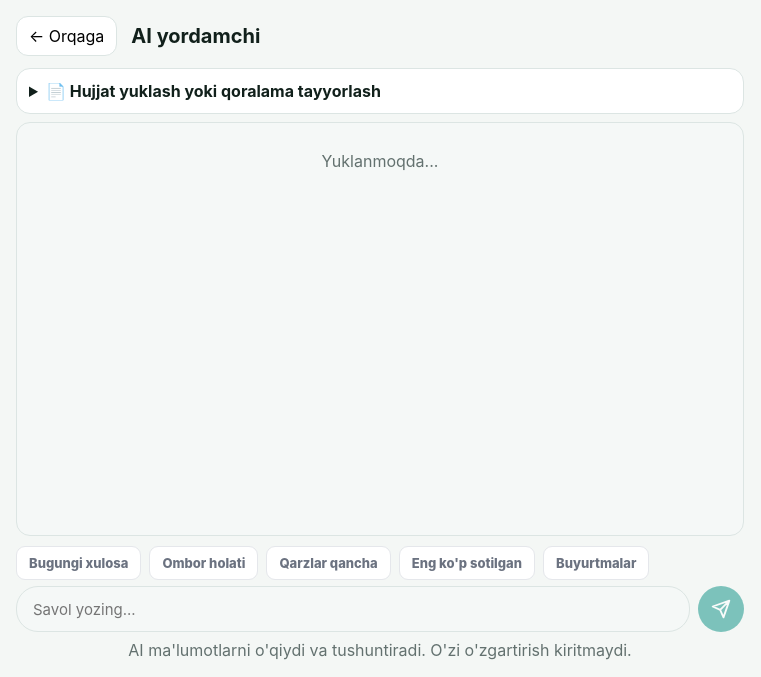
Scenario: AIAssistant › shows a failed request in the assistant message stream like v1656
Click the button "Qarzlar qancha". click: (329, 563)
box: [266,546,391,580]
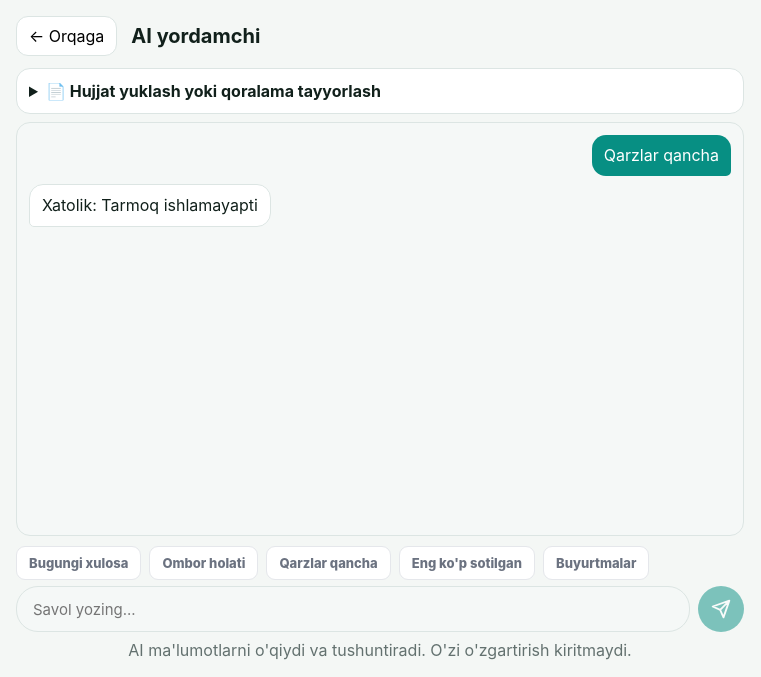
Expected: the text "Xatolik: Tarmoq ishlamayapti" is shown, [29,184,271,227]
